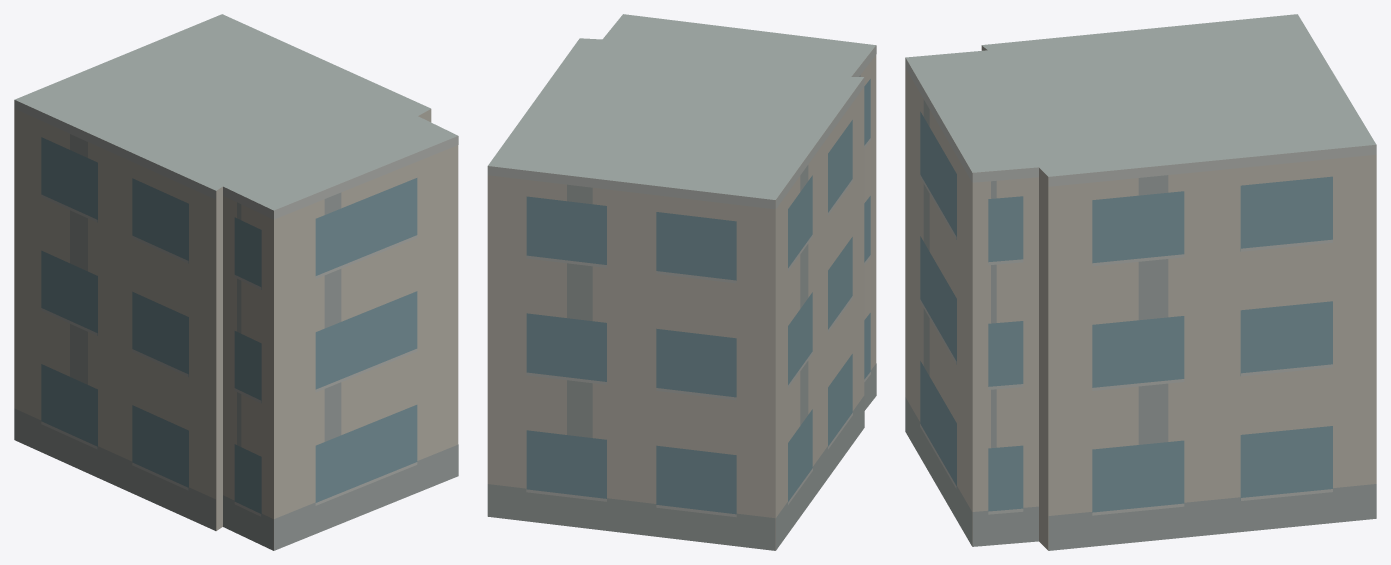
File: survey-upis-32870122.glb
The picture shows the model from 3 angles, left to right: view 1: azimuth 30°, elevation 25°; view 2: azimuth 150°, elevation 25°; view 3: azimuth 270°, elevation 25°; orthographic projection. The views are drawn at different scales.
Visible parts, largest first — view 1: survey-upis-32870122.tmp; view 2: survey-upis-32870122.tmp; view 3: survey-upis-32870122.tmp.
Part boxes in pixels (x1,y1,x2,y2): survey-upis-32870122.tmp: [14, 14, 458, 550]; survey-upis-32870122.tmp: [487, 14, 876, 550]; survey-upis-32870122.tmp: [905, 14, 1376, 550].
Bounding box in the file's own units: 8.55 × 9.15 × 10.46.
